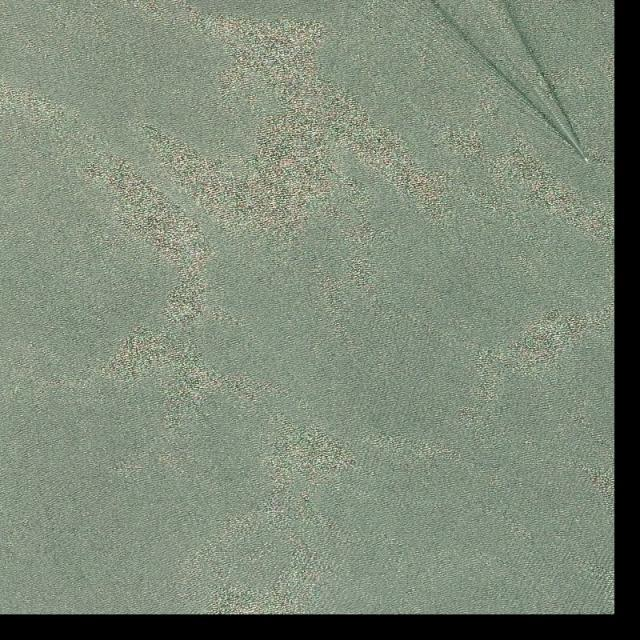ship: (583, 156, 590, 163)
